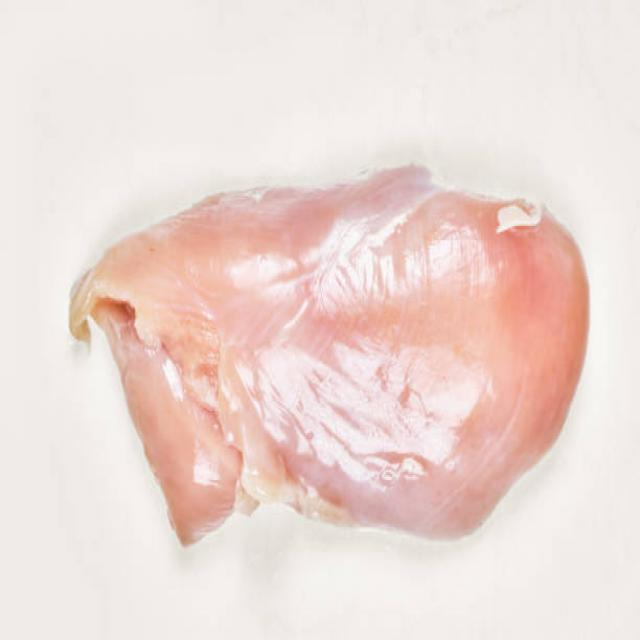Chicken Breast: (62, 161, 598, 616)
